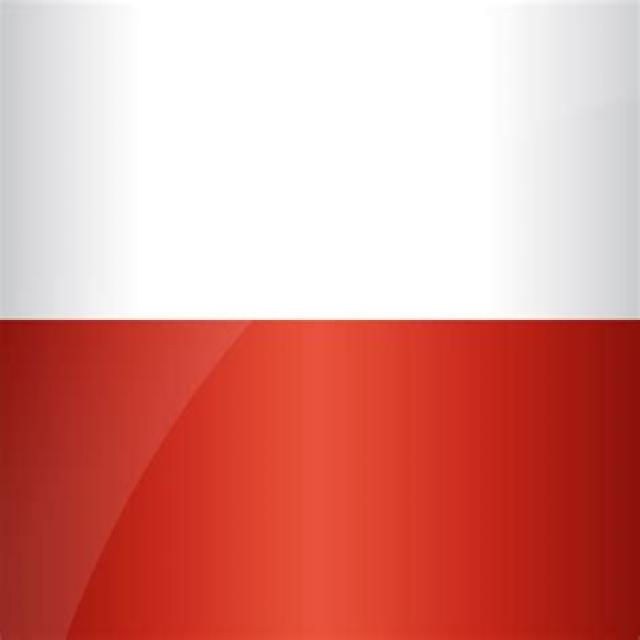poland: (16, 13, 640, 640)
